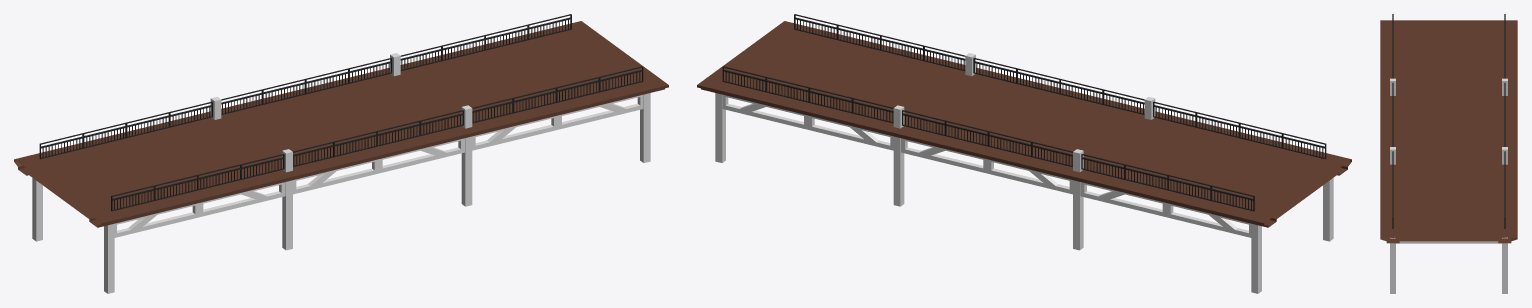
The model's file is BridgeTrain.fbx.
The picture shows the model from 3 angles, left to right: view 1: azimuth 30°, elevation 25°; view 2: azimuth 150°, elevation 25°; view 3: azimuth 270°, elevation 25°; orthographic projection. The views are drawn at different scales.
Visible parts, largest first — view 1: BridgeTrain; view 2: BridgeTrain; view 3: BridgeTrain.
Part boxes in pixels (left/top/right/bottom): BridgeTrain: left=14, top=14, right=668, bottom=293; BridgeTrain: left=697, top=14, right=1351, bottom=293; BridgeTrain: left=1380, top=14, right=1517, bottom=293.
Bounding box in the file's own units: 8400 × 1372 × 2245.
